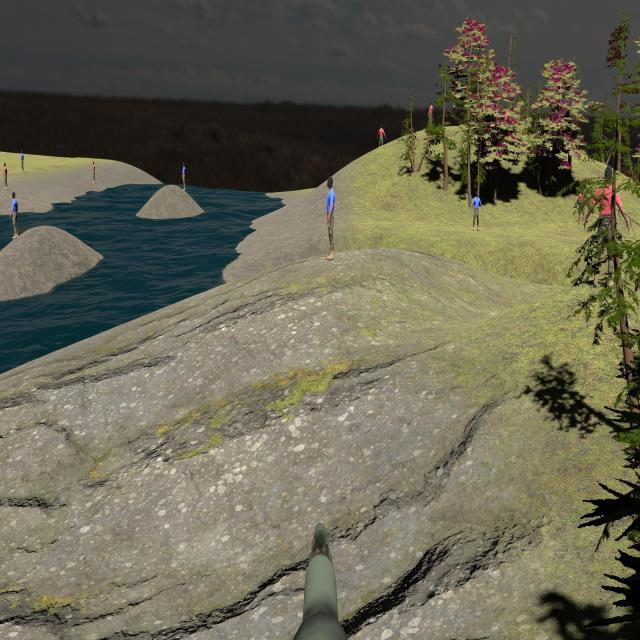Human: (585, 164, 629, 291), (327, 176, 335, 261), (469, 190, 484, 231), (10, 191, 19, 240)
